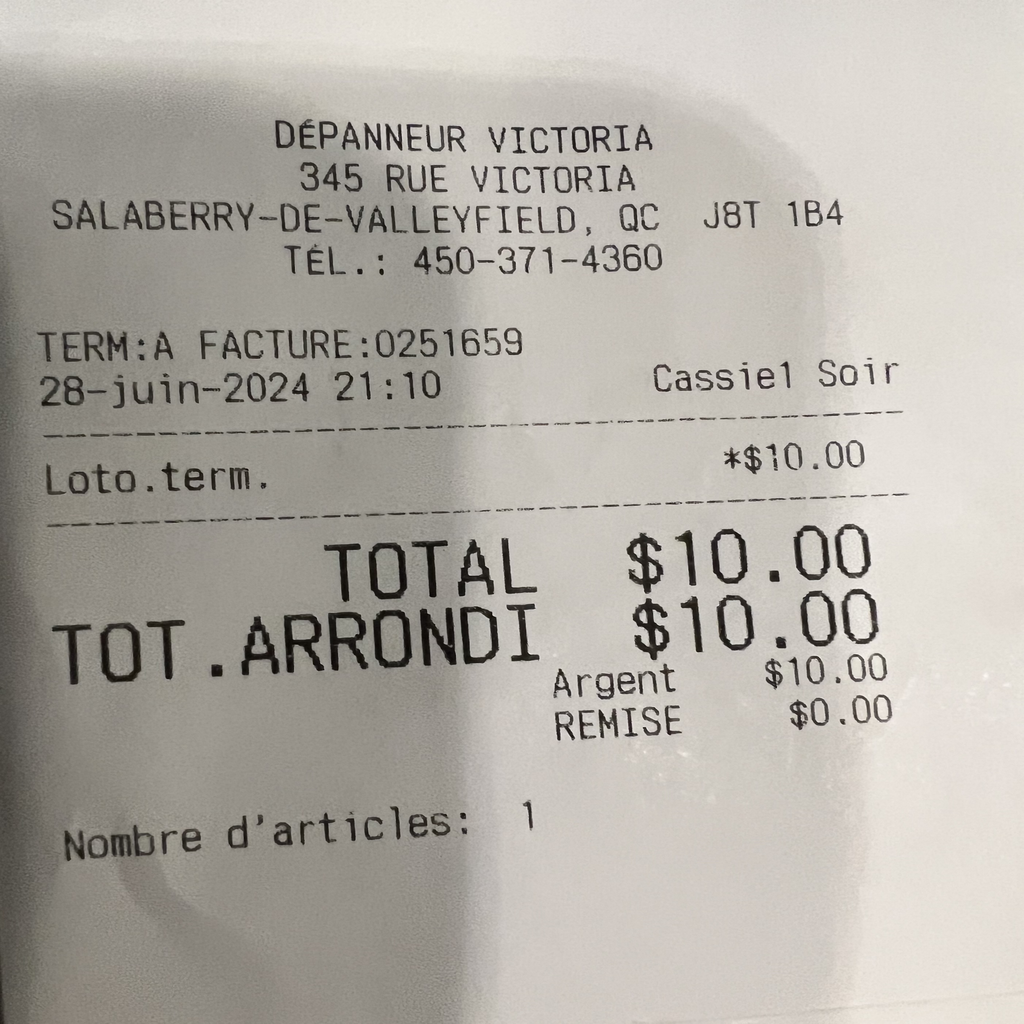recipt: (25, 69, 997, 923)
